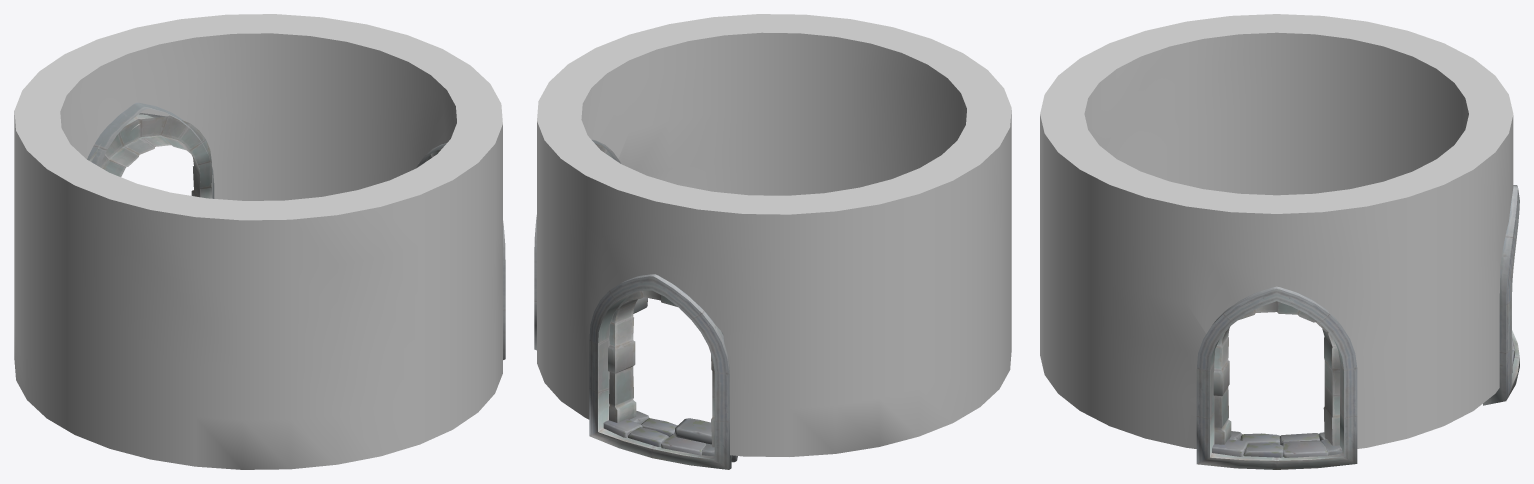
File: SM_TowerA_Mid2Door.fbx
The picture shows the model from 3 angles, left to right: view 1: azimuth 30°, elevation 25°; view 2: azimuth 150°, elevation 25°; view 3: azimuth 270°, elevation 25°; orthographic projection. The views are drawn at different scales.
Visible parts, largest first — view 1: SM_TowerA_Mid2Door_LOD0; view 2: SM_TowerA_Mid2Door_LOD0; view 3: SM_TowerA_Mid2Door_LOD0.
Boxes of the visible parts, x1,y1,x2,y2 form: SM_TowerA_Mid2Door_LOD0: (14, 14, 505, 469); SM_TowerA_Mid2Door_LOD0: (534, 14, 1011, 469); SM_TowerA_Mid2Door_LOD0: (1040, 14, 1519, 469).
Size of what is drawn, in the model's own units: 8.11 by 4.9 by 8.11.
